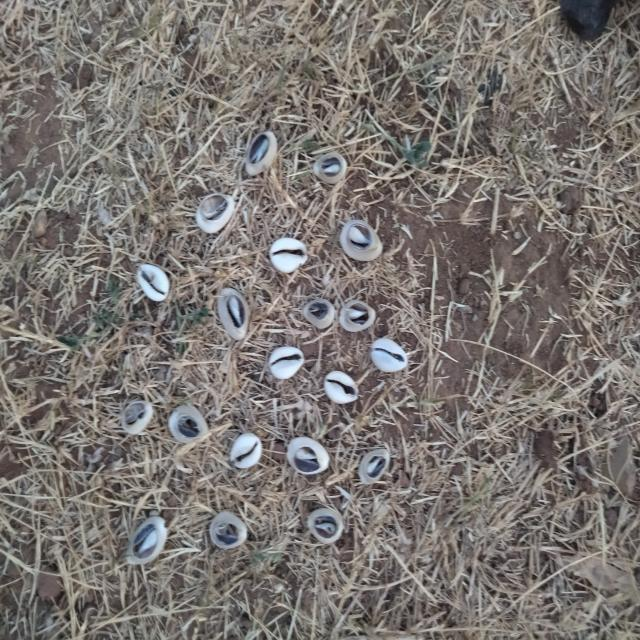facedown: (334, 210, 386, 270), (122, 513, 171, 573), (281, 431, 338, 482), (162, 398, 212, 452), (204, 508, 254, 558), (215, 282, 253, 346), (304, 502, 349, 556), (192, 186, 238, 238), (308, 144, 354, 191), (354, 439, 396, 489), (242, 126, 278, 181), (114, 394, 157, 439), (296, 296, 338, 332), (336, 300, 380, 333)
faceup: (262, 230, 312, 279), (129, 259, 174, 306), (320, 364, 365, 410), (263, 342, 308, 386), (228, 424, 264, 476), (369, 332, 410, 376)
